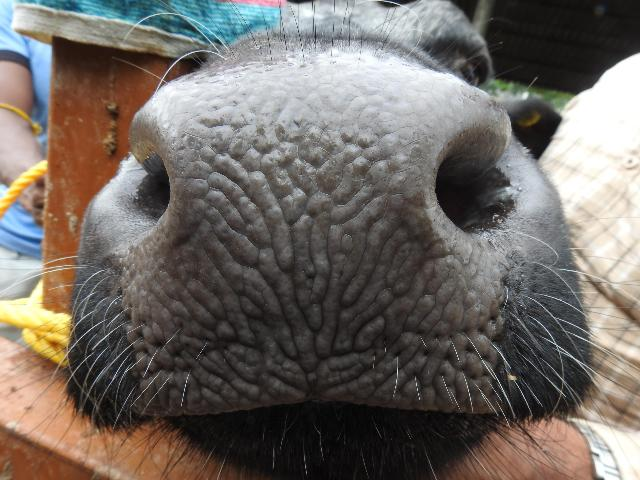Muzzle: (157, 91, 473, 410)
